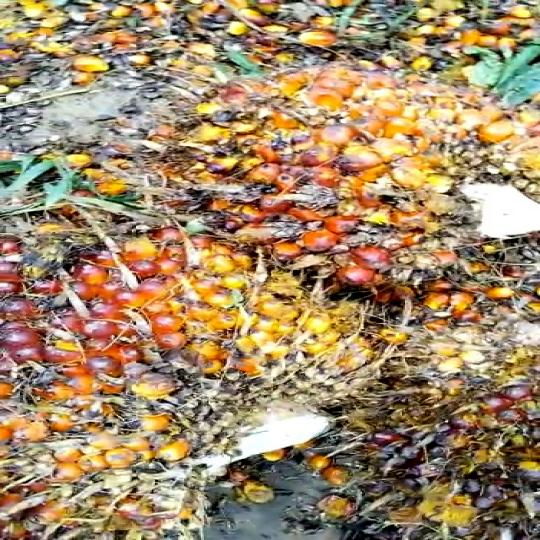masak: (0, 180, 411, 540), (120, 59, 540, 292)
